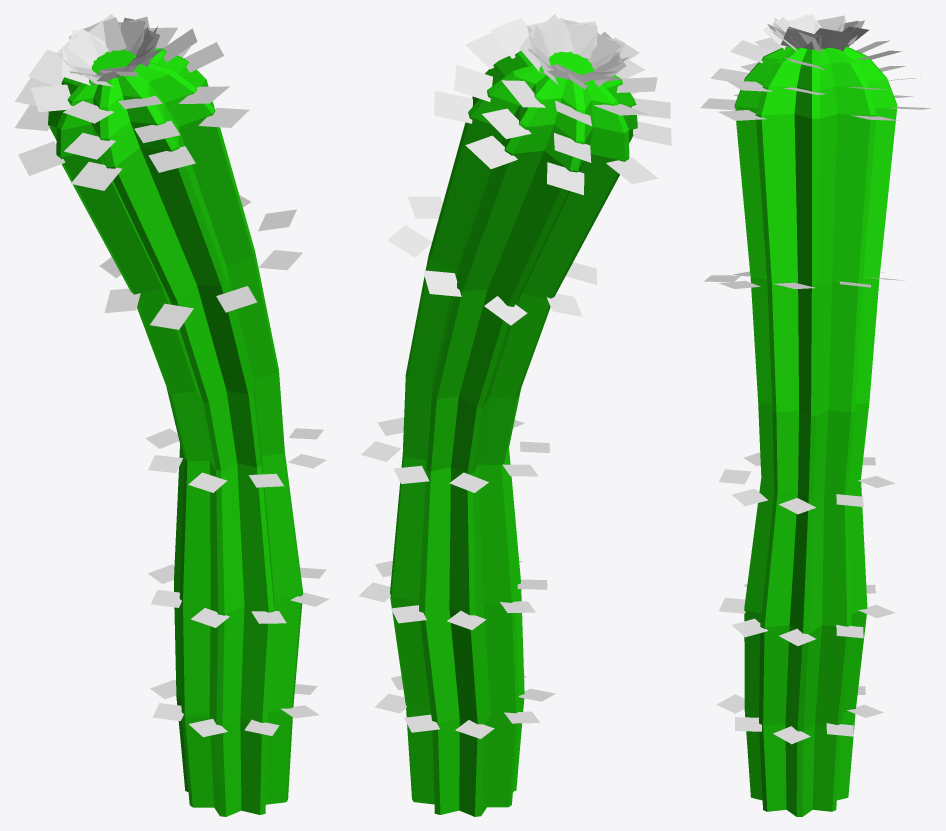
The model's file is Cactus_6.fbx.
3 views of the same model, side by side, from view 1: azimuth 30°, elevation 25°; view 2: azimuth 150°, elevation 25°; view 3: azimuth 270°, elevation 25° (orthographic). The views are drawn at different scales.
Visible parts, largest first — view 1: Kaktus_1.002; view 2: Kaktus_1.002; view 3: Kaktus_1.002.
Part boxes in pixels (x1,y1,x2,y2): Kaktus_1.002: (14, 14, 329, 816); Kaktus_1.002: (359, 14, 671, 816); Kaktus_1.002: (700, 14, 931, 816).
Bounding box in the file's own units: 104 × 272 × 78.
